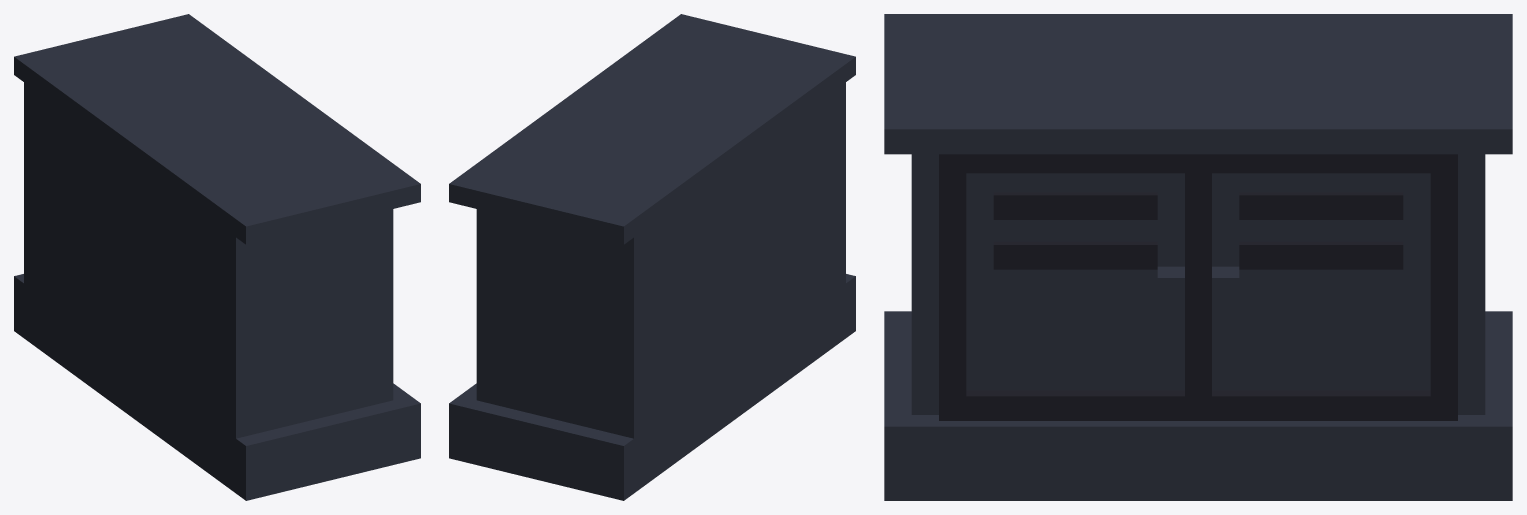
Rendered from ElectricalBox_001.fbx.
The picture shows the model from 3 angles, left to right: view 1: azimuth 30°, elevation 25°; view 2: azimuth 150°, elevation 25°; view 3: azimuth 270°, elevation 25°; orthographic projection. The views are drawn at different scales.
Visible parts, largest first — view 1: ElectricalBox_001; view 2: ElectricalBox_001; view 3: ElectricalBox_001.
Boxes of the visible parts, <box> form: ElectricalBox_001: <box>14,14,420,500</box>; ElectricalBox_001: <box>449,14,855,500</box>; ElectricalBox_001: <box>884,14,1512,500</box>.
Size of the model in its own units: 1 by 1.5 by 2.3.
